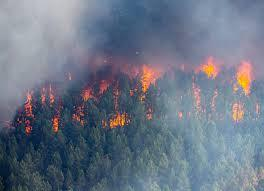fire: (17, 55, 264, 140)
yanwu: (1, 0, 264, 118)
